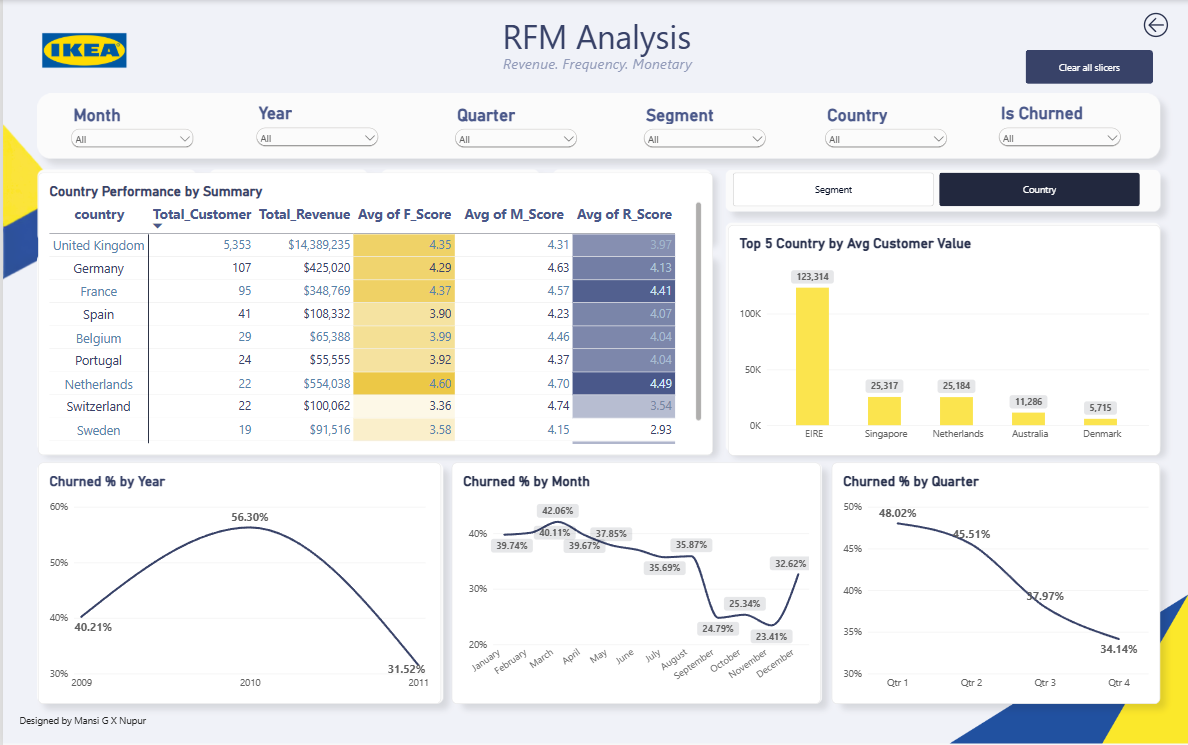

What the dashboard file says about the page in this screenshot:
{"tool":"powerbi","page":{"name":"RFM Analysis","canvas":[1750,1100],"ordinal":2},"visuals":[{"type":"slicer","fields":{"Values":["Sheet1.InvoiceMonth.Variation.Date Hierarchy.Month"]},"box":[96.7,154.7,190,68.3],"z":0},{"type":"columnChart","title":"Top 5 Country by Avg Customer Value","fields":{"Category":["Sheet1.country"],"Y":["Sheet1.Avg Customer Value"]},"box":[1069.1,331.4,637.8,340],"z":0,"group":"g2"},{"type":"lineChart","title":"Churned % by Year","fields":{"Category":["Sheet1.InvoiceMonth.Variation.Date Hierarchy.Year"],"Y":["Sheet1.Churned %"]},"box":[52,682,594,356],"z":0,"group":"g1"},{"type":"slicer","fields":{"Values":["Sheet1.InvoiceMonth.Variation.Date Hierarchy.Year"]},"box":[368.3,153,190,72],"z":1000},{"type":"pivotTable","title":"Country Performance by Summary","fields":{"Rows":["Sheet1.country"],"Values":["Sheet1.Total_Customer","Sheet1.Total_Revenue","Avg(Sheet1.F_Score)","Avg(Sheet1.M_Score)","Avg(Sheet1.R_Score)"]},"box":[51.3,254.5,995.6,416.7],"z":1000,"group":"g2"},{"type":"lineChart","title":"Churned % by Month","fields":{"Category":["Sheet1.InvoiceMonth.Variation.Date Hierarchy.Month"],"Y":["Sheet1.Churned %"]},"box":[662,682,544,356],"z":1000,"group":"g1"},{"type":"slicer","fields":{"Values":["Sheet1.InvoiceMonth.Variation.Date Hierarchy.Quarter"]},"box":[661.7,154.7,190,81.7],"z":2000},{"type":"lineChart","title":"Churned % by Quarter","fields":{"Category":["Sheet1.InvoiceMonth.Variation.Date Hierarchy.Quarter"],"Y":["Sheet1.Churned %"]},"box":[1222,682,484,356],"z":2000,"group":"g1"},{"type":"slicer","fields":{"Values":["Sheet1.Segment"]},"box":[940,154.7,190,82],"z":3000},{"type":"slicer","fields":{"Values":["Sheet1.country"]},"box":[1206.7,154.7,190,83.8],"z":4000},{"type":"slicer","fields":{"Values":["Sheet1.IsChurned"]},"box":[1463.3,153,190,82.5],"z":5000},{"type":"group","id":"g1","title":"Revenue","box":[52,682,1654,356],"z":7000},{"type":"textbox","box":[24,1052,262,46],"z":8000},{"type":"image","box":[0,20,240,108],"z":9000},{"type":"textbox","box":[637.2,20.1,475.5,101.4],"z":10000},{"type":"actionButton","box":[1650,0,100,74],"z":11000},{"type":"actionButton","box":[1508,74,188,50],"z":12000},{"type":"textbox","box":[640.8,79.6,428.6,40.8],"z":13000},{"type":"bookmarkNavigator","box":[1077,254.4,600,50],"z":14000},{"type":"group","id":"g2","title":"country","box":[51.3,254.5,1655.6,416.9],"z":15000}]}

Visuals, with their boxes in screenshot pixels (x1, y1, x2, y2), scaled from the page's 1750x1100 canvas onto the 1188x745 screenshot:
slicer - Sheet1.InvoiceMonth.Variation.Date Hierarchy.Month: pyautogui.locateOnScreen(66, 105, 195, 151)
"Top 5 Country by Avg Customer Value" columnChart: pyautogui.locateOnScreen(726, 224, 1159, 455)
"Churned % by Year" lineChart: pyautogui.locateOnScreen(35, 462, 439, 703)
slicer - Sheet1.InvoiceMonth.Variation.Date Hierarchy.Year: pyautogui.locateOnScreen(250, 104, 379, 152)
"Country Performance by Summary" pivotTable: pyautogui.locateOnScreen(35, 172, 711, 455)
"Churned % by Month" lineChart: pyautogui.locateOnScreen(449, 462, 819, 703)
slicer - Sheet1.InvoiceMonth.Variation.Date Hierarchy.Quarter: pyautogui.locateOnScreen(449, 105, 578, 160)
"Churned % by Quarter" lineChart: pyautogui.locateOnScreen(830, 462, 1158, 703)
slicer - Sheet1.Segment: pyautogui.locateOnScreen(638, 105, 767, 160)
slicer - Sheet1.country: pyautogui.locateOnScreen(819, 105, 948, 162)
slicer - Sheet1.IsChurned: pyautogui.locateOnScreen(993, 104, 1122, 159)
"Revenue" group: pyautogui.locateOnScreen(35, 462, 1158, 703)
textbox: pyautogui.locateOnScreen(16, 712, 194, 744)
image: pyautogui.locateOnScreen(0, 14, 163, 87)
textbox: pyautogui.locateOnScreen(433, 14, 755, 82)
actionButton: pyautogui.locateOnScreen(1120, 0, 1187, 50)
actionButton: pyautogui.locateOnScreen(1024, 50, 1151, 84)
textbox: pyautogui.locateOnScreen(435, 54, 726, 82)
bookmarkNavigator: pyautogui.locateOnScreen(731, 172, 1138, 206)
"country" group: pyautogui.locateOnScreen(35, 172, 1159, 455)
